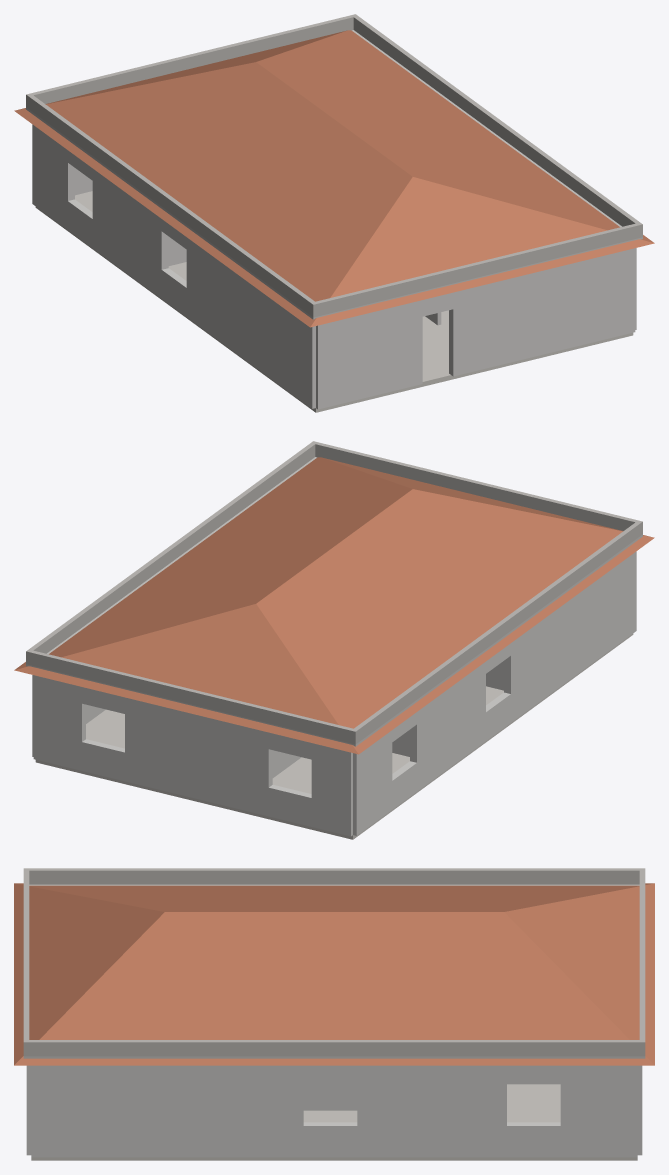
The model's file is plan_122be309eb2e.glb.
3 views of the same model, one above another, from view 1: azimuth 30°, elevation 25°; view 2: azimuth 150°, elevation 25°; view 3: azimuth 270°, elevation 25° (orthographic). The views are drawn at different scales.
Parts seen in each view (by area): view 1: roof_tiles, walls, roof_flat, room_living, room_parking; view 2: roof_tiles, walls, roof_flat, room_master, room_bedroom_3; view 3: roof_tiles, walls, roof_flat, room_bedroom_3, room_bedroom_2, room_parking.
Part boxes in pixels (x1,y1,x2,y2): roof_tiles: (14,30,654,327); walls: (32,124,636,409); roof_flat: (26,14,642,319); room_living: (378,316,493,397); room_parking: (440,310,633,369); roof_tiles: (14,457,654,754); walls: (32,551,636,836); roof_flat: (26,441,642,746); room_master: (231,753,449,839); room_bedroom_3: (35,709,175,796); roof_tiles: (14,883,654,1065); walls: (26,1065,642,1157); roof_flat: (23,868,645,1058); room_bedroom_3: (429,1084,637,1160); room_bedroom_2: (231,1110,429,1160); room_parking: (31,1157,231,1160).
Bounding box in the file's own units: 11.26 × 4.75 × 16.75.
